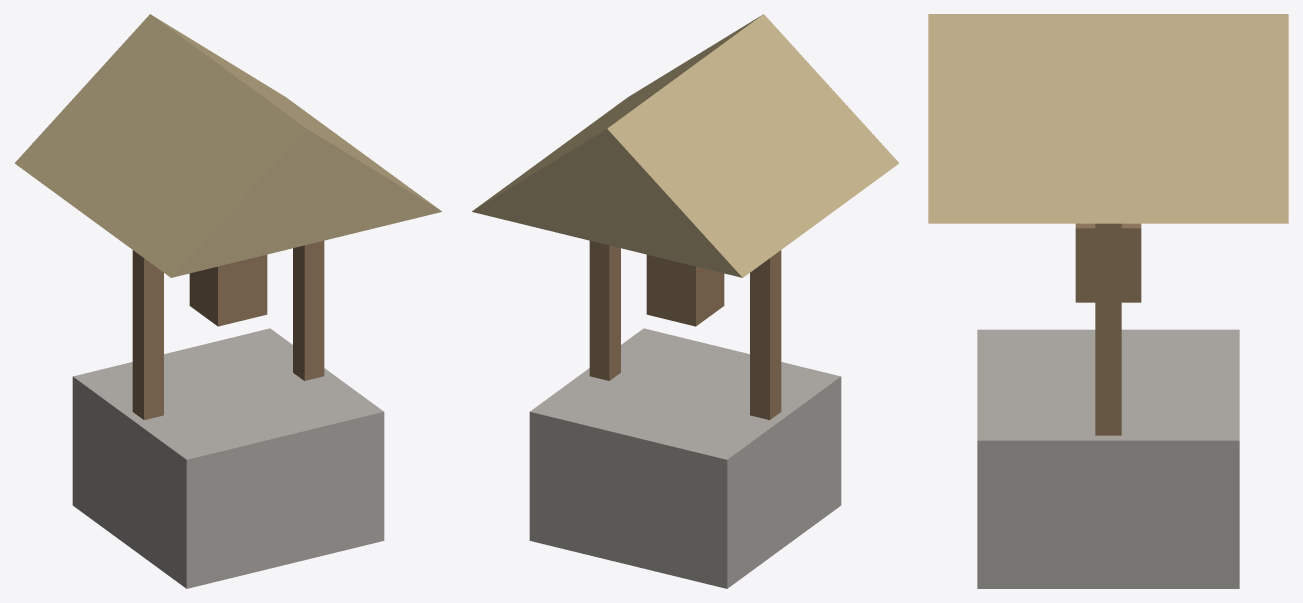
File: well.glb
3 views of the same model, side by side, from view 1: azimuth 30°, elevation 25°; view 2: azimuth 150°, elevation 25°; view 3: azimuth 270°, elevation 25° (orthographic). The views are drawn at different scales.
Visible parts, largest first — view 1: Well; view 2: Well; view 3: Well.
Boxes of the visible parts, x1,y1,x2,y2 form: Well: (14, 14, 441, 588); Well: (472, 14, 899, 588); Well: (928, 14, 1288, 588).
Bounding box in the file's own units: 2.2 × 3.5 × 2.2.
